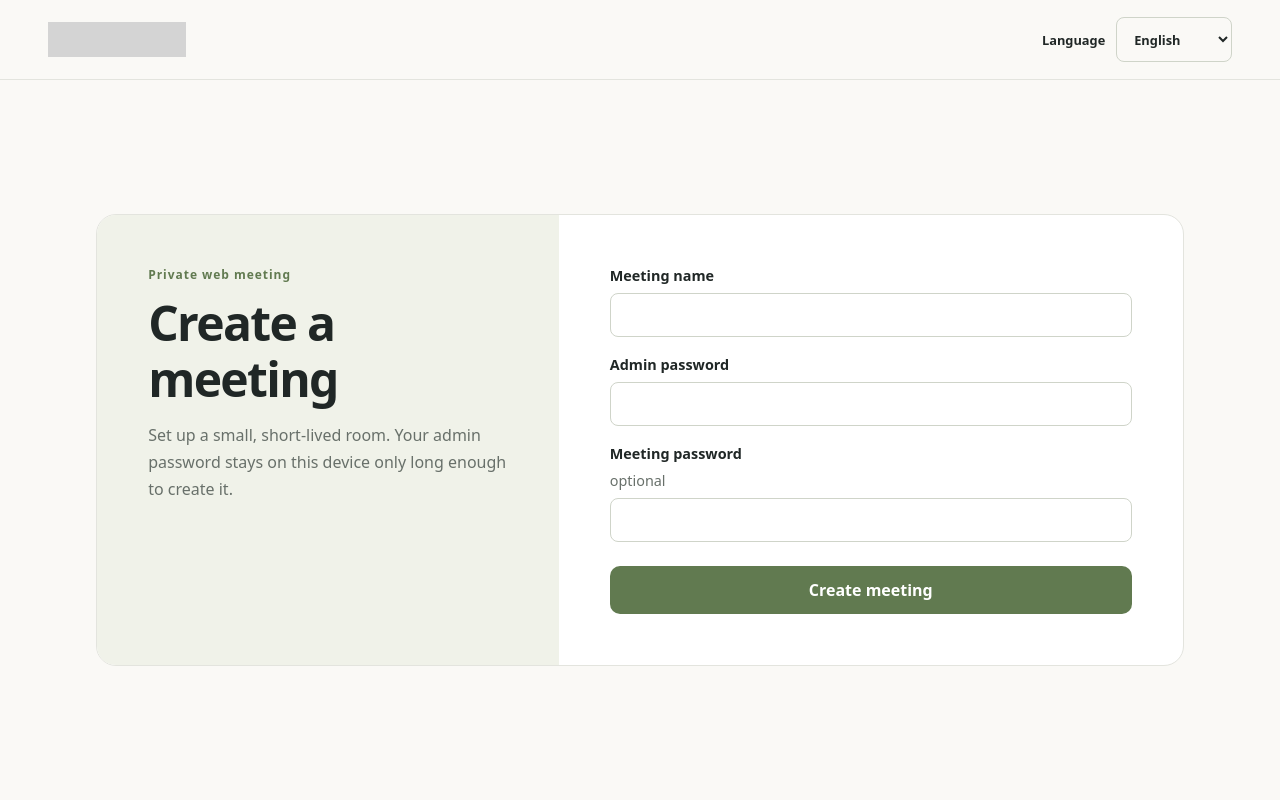
Test: meeting creation › shows the API error without persisting the admin password
The image size is (1280, 800).
Type "Design review" into the field labelled "Meeting name".
click(871, 315); type("Design review")  # box [610,293,1132,337]
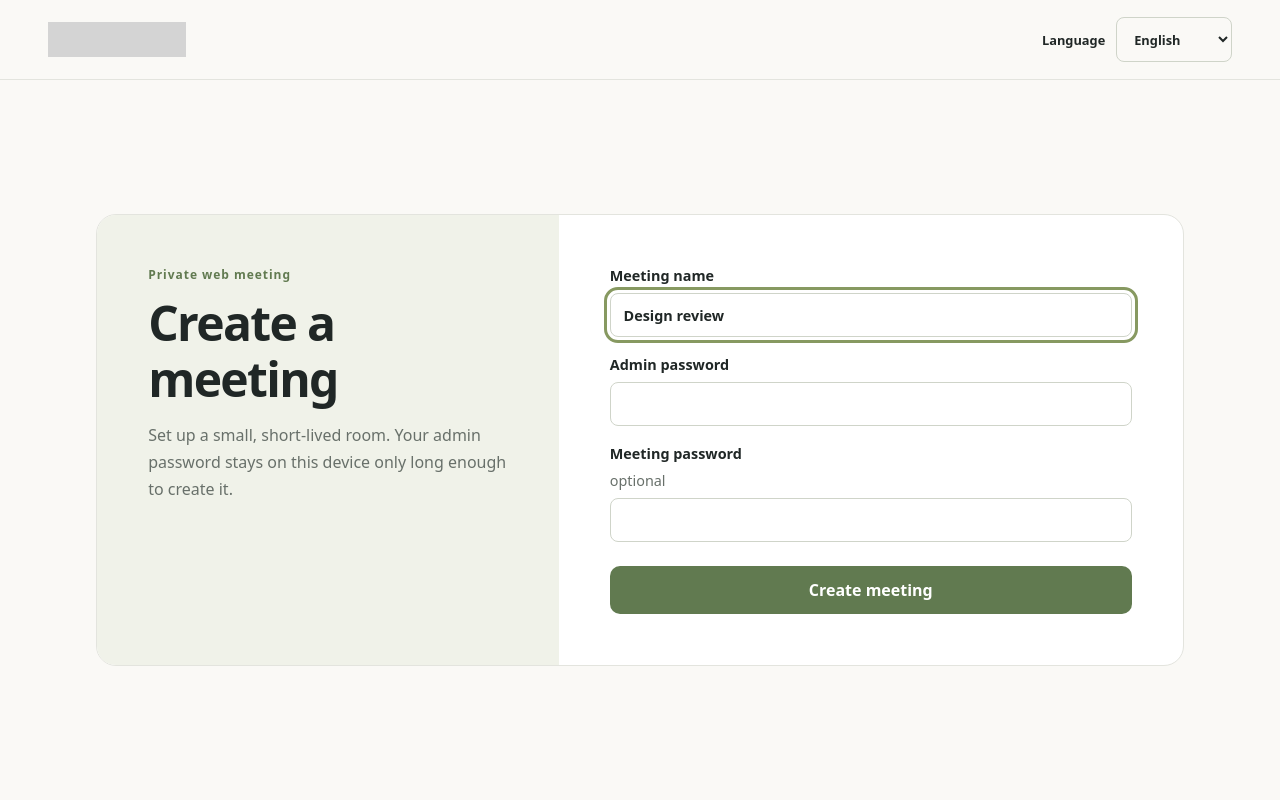
Type "host-secret" into the password field labelled "Admin password".
click(871, 404); type("host-secret")  # box [610,382,1132,426]
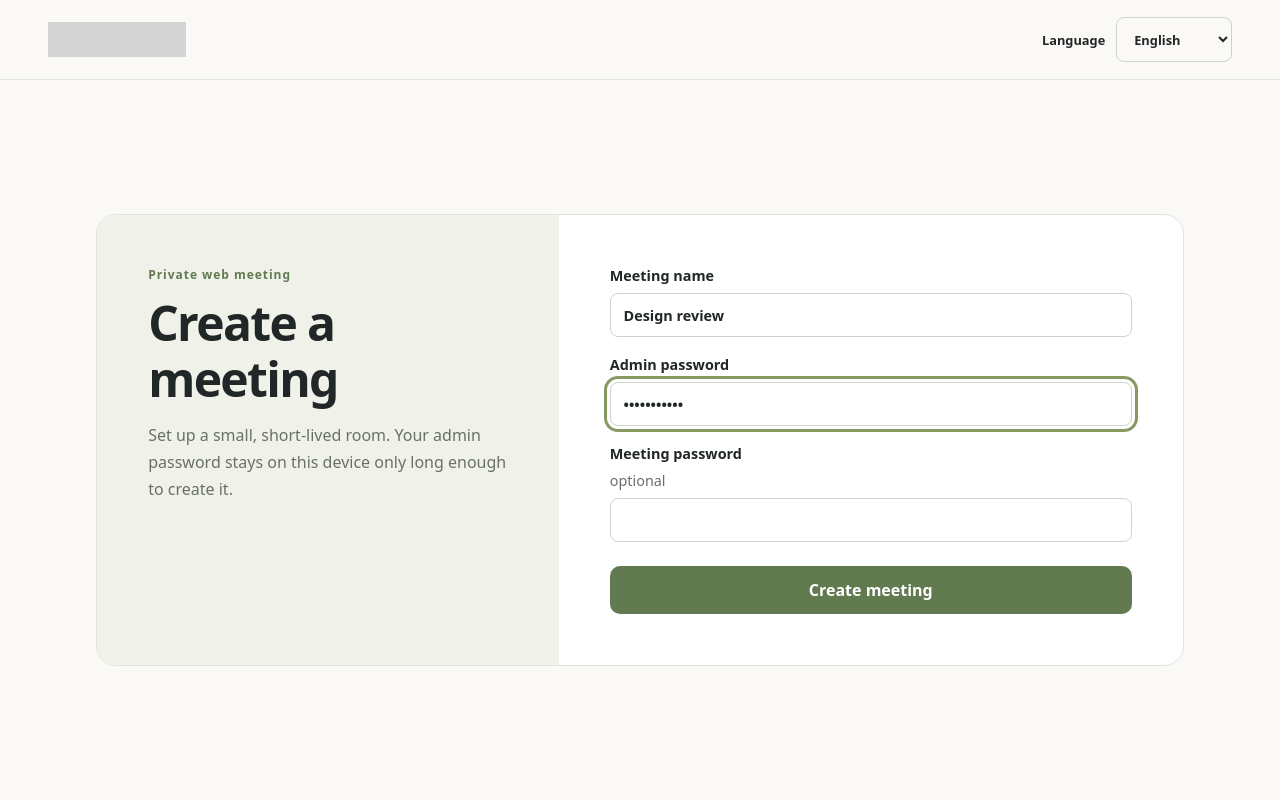
Click the button "Create meeting".
click(871, 590)  # box [610,566,1132,614]
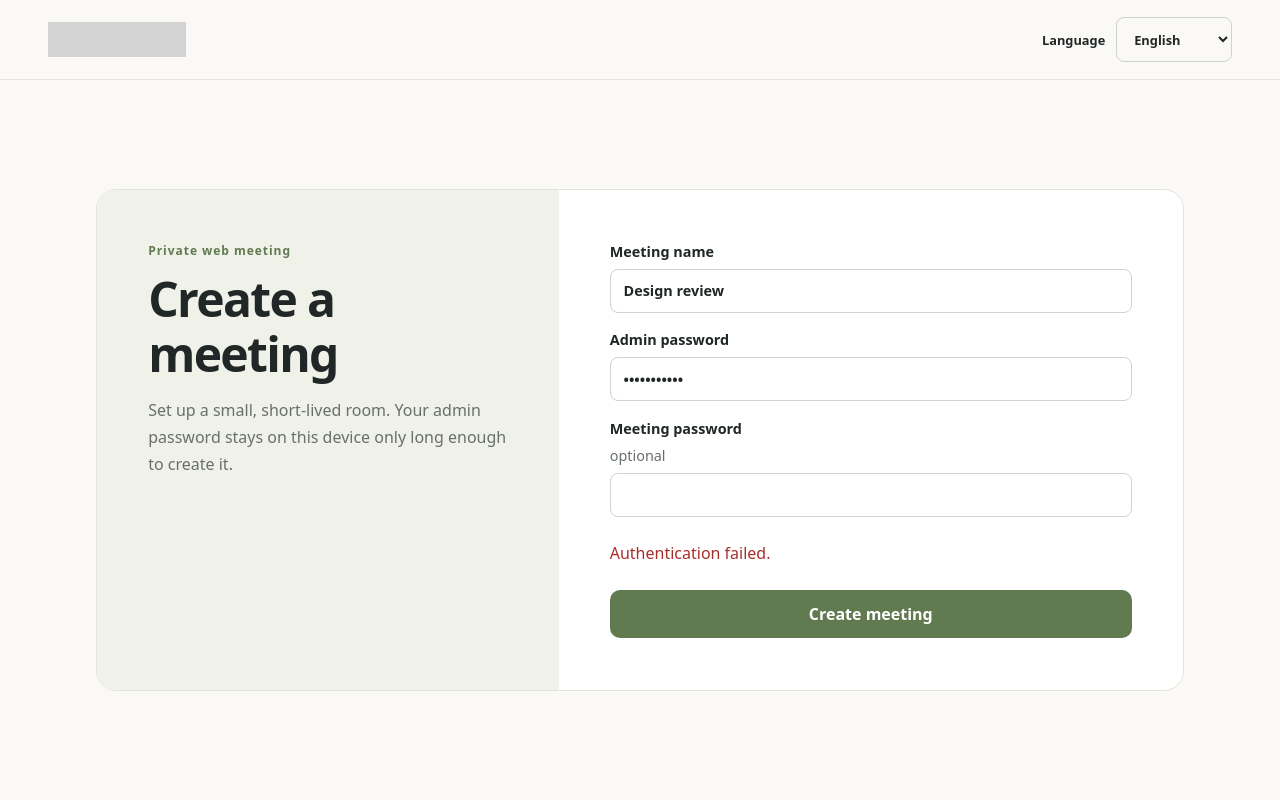
Expected: the message shows "Authentication failed", [610,542,770,564]
